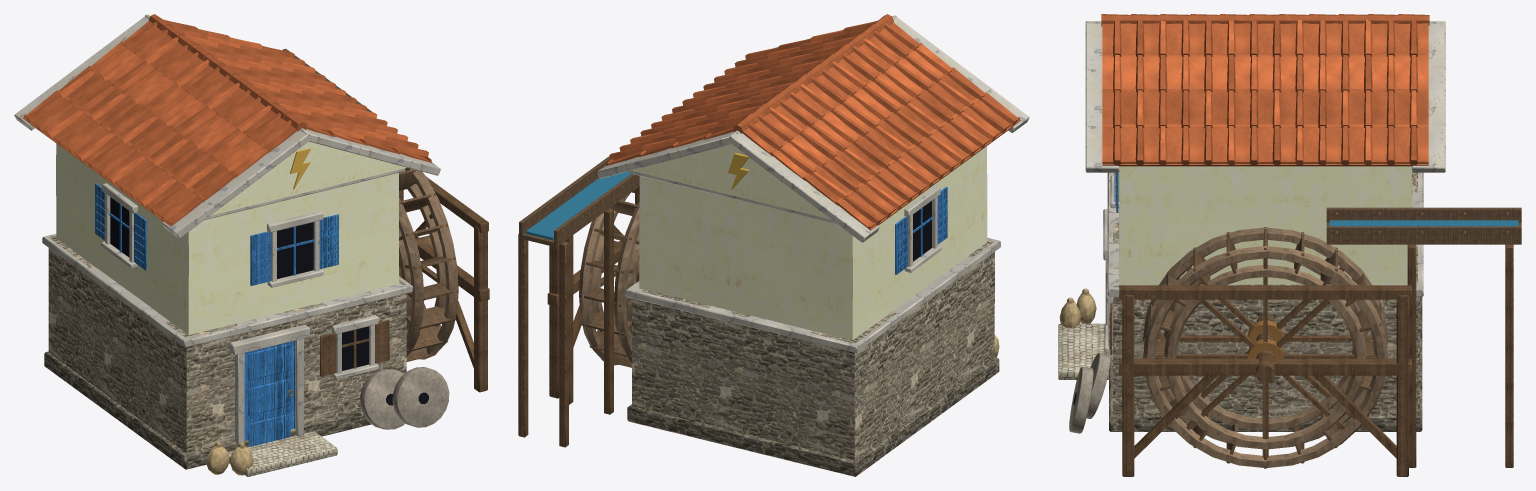
File: country_watermill.glb
3 views of the same model, side by side, from view 1: azimuth 30°, elevation 25°; view 2: azimuth 150°, elevation 25°; view 3: azimuth 270°, elevation 25° (orthographic). The views are drawn at different scales.
Parts seen in each view (by area): view 1: plaster, stone, marble, terracotta0, terracotta1, terracotta2, azure_wood, wood_dark, wood, rock, stone_dark, dark (+3 smaller); view 2: stone, plaster, terracotta0, terracotta1, terracotta2, marble, wood_dark, stone_dark, plank, wood, water.001, azure_wood (+1 smaller); view 3: wood_dark, plaster, terracotta0, wood, terracotta1, stone, terracotta2, plank, marble, stone_dark, paving, rock (+3 smaller).
Part boxes in pixels (box(x1,y1,x2,y2)): plaster: box(56, 141, 406, 334); stone: box(48, 235, 406, 453); marble: box(14, 14, 440, 446); terracotta0: box(23, 21, 432, 226); terracotta1: box(23, 14, 431, 224); terracotta2: box(47, 35, 408, 206); azure_wood: box(95, 183, 338, 446); wood_dark: box(320, 169, 489, 392); wood: box(399, 167, 458, 359); rock: box(360, 367, 449, 429); stone_dark: box(44, 351, 371, 469); dark: box(110, 197, 428, 405); stone: box(632, 239, 994, 460); plaster: box(631, 144, 987, 340); terracotta0: box(605, 21, 1020, 230); terracotta1: box(606, 14, 1019, 228); terracotta2: box(630, 30, 996, 209); marble: box(597, 15, 1029, 352); wood_dark: box(518, 193, 639, 447); stone_dark: box(627, 357, 999, 476); plank: box(519, 156, 639, 367); wood: box(579, 171, 639, 365); water.001: box(526, 171, 632, 240); azure_wood: box(895, 186, 947, 274); wood_dark: box(1109, 239, 1513, 476); plaster: box(1119, 166, 1412, 284); terracotta0: box(1102, 14, 1428, 166); wood: box(1143, 227, 1387, 467); terracotta1: box(1101, 14, 1429, 164); stone: box(1113, 172, 1418, 414); terracotta2: box(1102, 14, 1428, 164); plank: box(1144, 207, 1521, 468); marble: box(1085, 21, 1445, 357); stone_dark: box(1109, 297, 1422, 431); paving: box(1058, 323, 1108, 379); rock: box(1069, 353, 1110, 433).
Bounding box in the file's own units: 7.08 × 6.52 × 7.6.
Materials: 19 (16 with a texture image).
